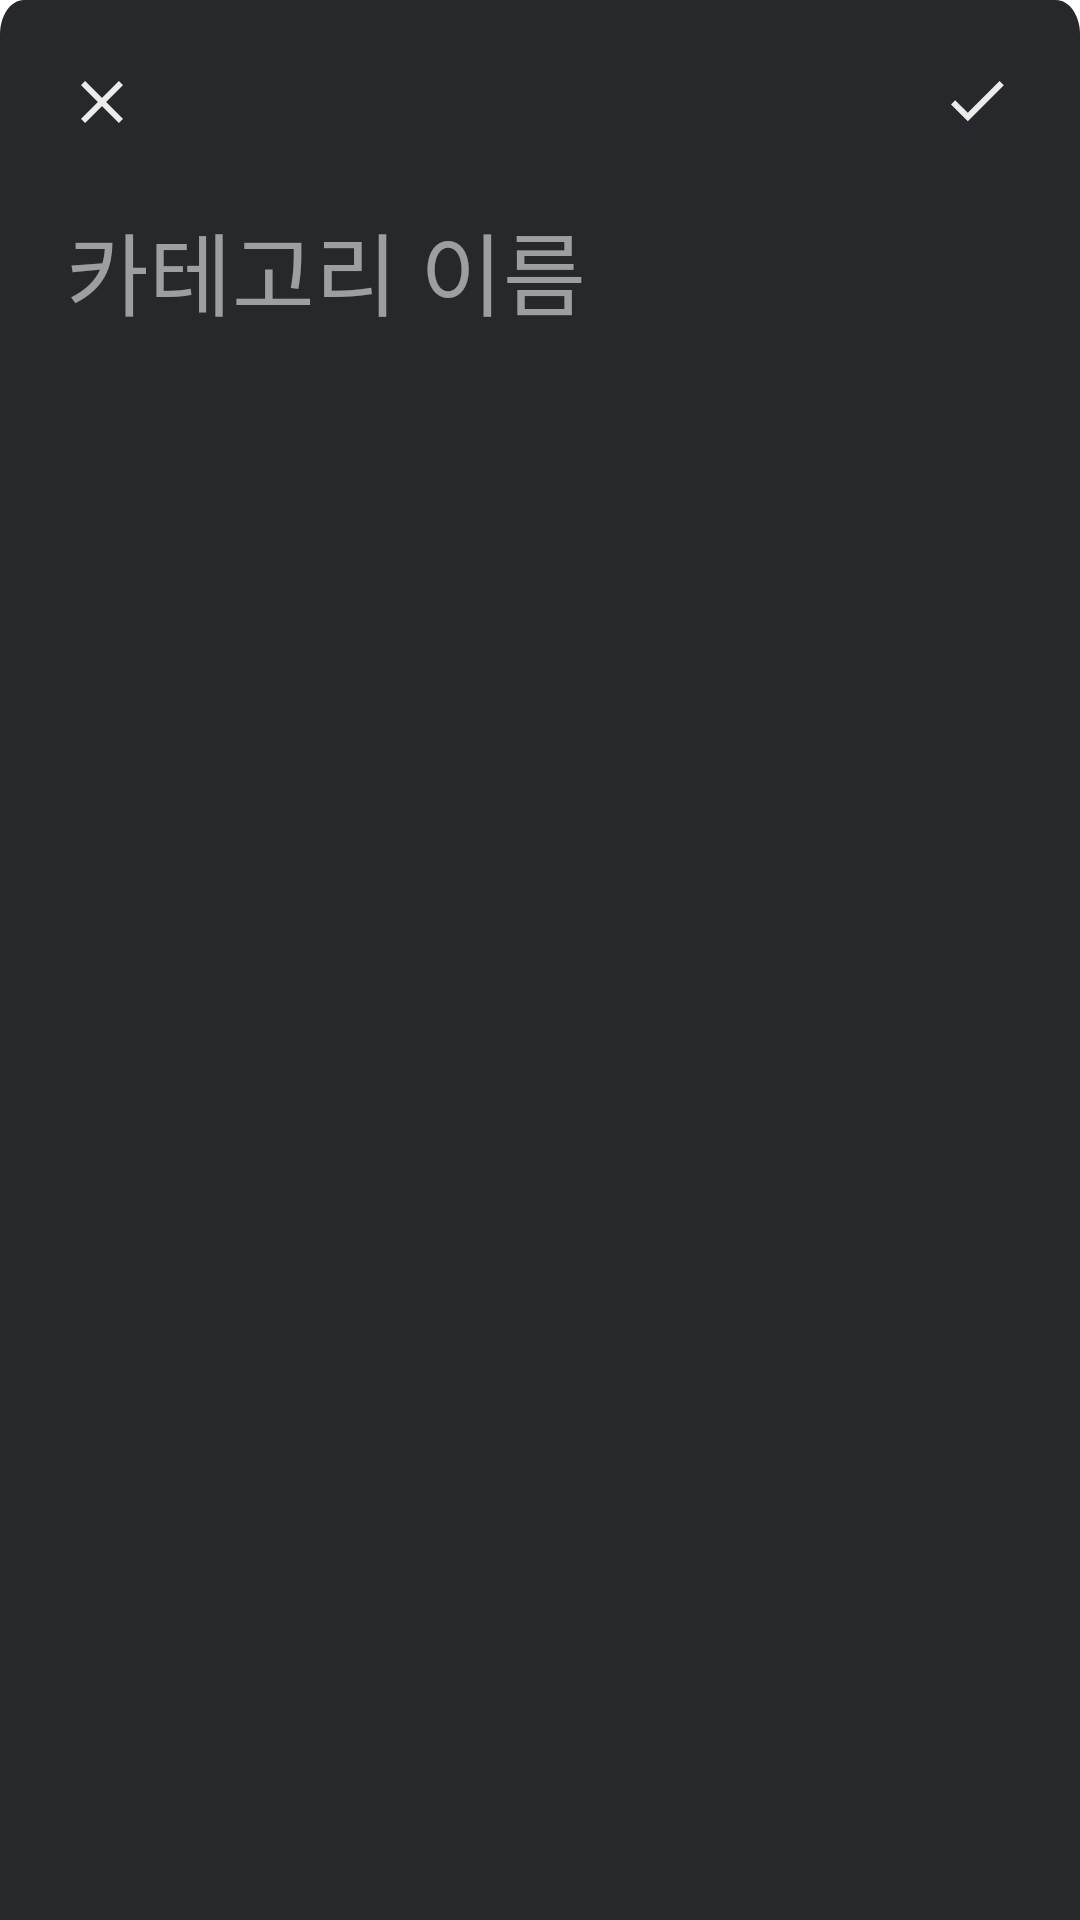

Icon click points for this 1080×1920 phone screenshot, format (x=x, y=y):
cate cancel: (x=102, y=102)
cate ok: (x=977, y=101)
